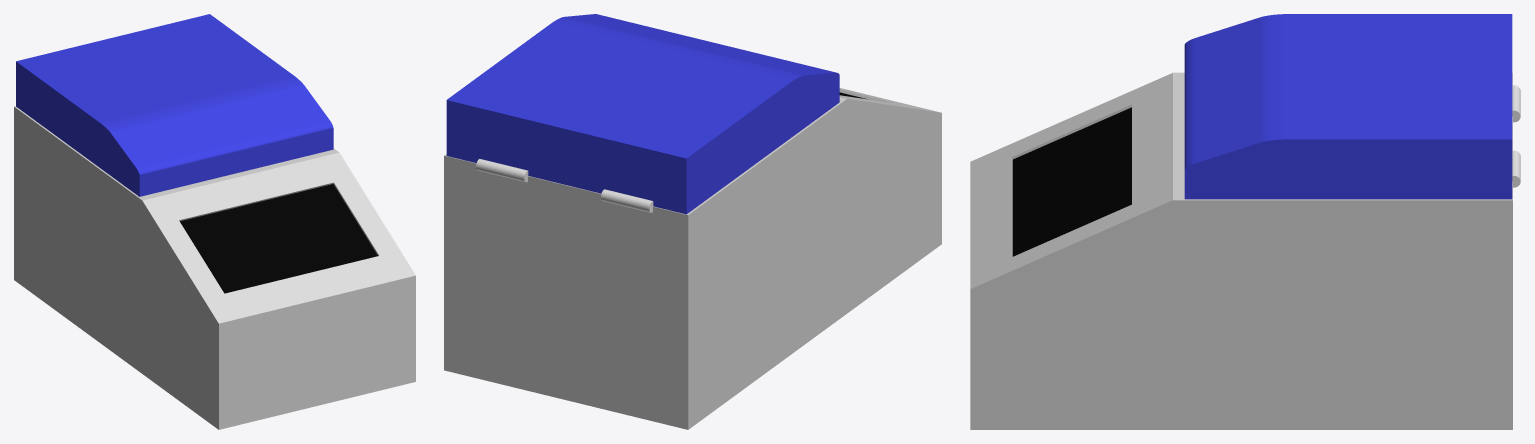
The model's file is XRF machine.fbx.
3 renders of one model, left to right at view 1: azimuth 30°, elevation 25°; view 2: azimuth 150°, elevation 25°; view 3: azimuth 270°, elevation 25°, orthographic. The views are drawn at different scales.
Visible parts, largest first — view 1: Than, Nap, man hinh; view 2: Than, Nap, Cylinder; view 3: Than, Nap, man hinh, Cylinder.
Part boxes in pixels (bbox=[...]): Than: bbox=[14, 106, 415, 429]; Nap: bbox=[16, 14, 333, 196]; man hinh: bbox=[180, 184, 377, 293]; Than: bbox=[444, 88, 941, 429]; Nap: bbox=[446, 14, 839, 214]; Cylinder: bbox=[476, 159, 653, 212]; Than: bbox=[970, 72, 1512, 429]; Nap: bbox=[1184, 14, 1512, 199]; man hinh: bbox=[1012, 107, 1131, 256]; Cylinder: bbox=[1512, 85, 1520, 187].
Bounding box in the file's own units: 28.05 × 29.72 × 51.18.
